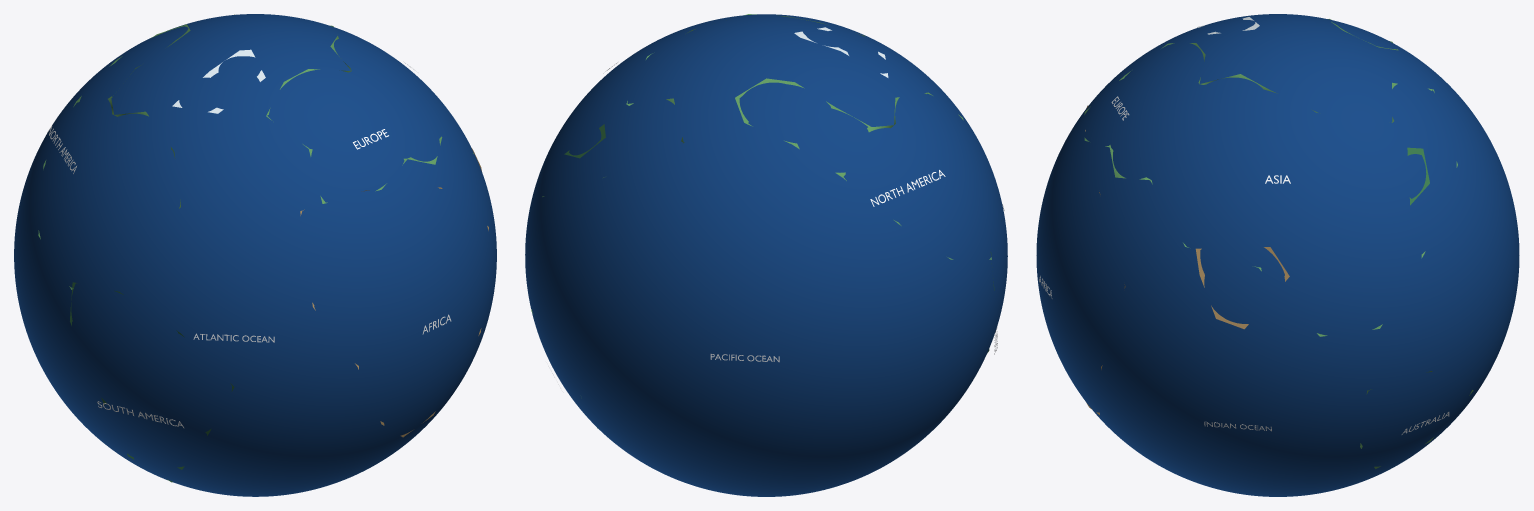
The model's file is earth.glb.
3 views of the same model, side by side, from view 1: azimuth 30°, elevation 25°; view 2: azimuth 150°, elevation 25°; view 3: azimuth 270°, elevation 25° (orthographic).
Parts seen in each view (by area): view 1: Earth_Oceans; view 2: Earth_Oceans, North America; view 3: Earth_Oceans, Europe and Asia.
Part boxes in pixels (left/top/right/bottom): Earth_Oceans: left=14, top=14, right=496, bottom=496; Earth_Oceans: left=525, top=14, right=1007, bottom=496; North America: left=735, top=78, right=991, bottom=259; Earth_Oceans: left=1036, top=14, right=1519, bottom=496; Europe and Asia: left=1084, top=43, right=1457, bottom=336.
Bounding box in the file's own units: 6 × 6.01 × 6.
